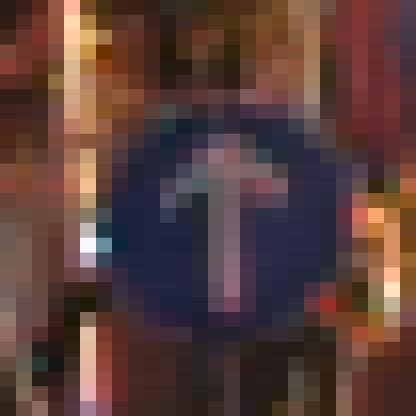AheadOnly: (81, 75, 337, 328)
